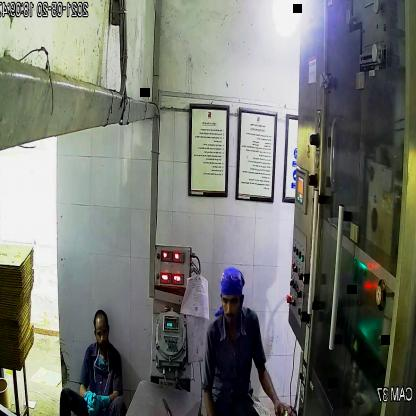no_goggles: (220, 291, 243, 310), (94, 321, 110, 341)
